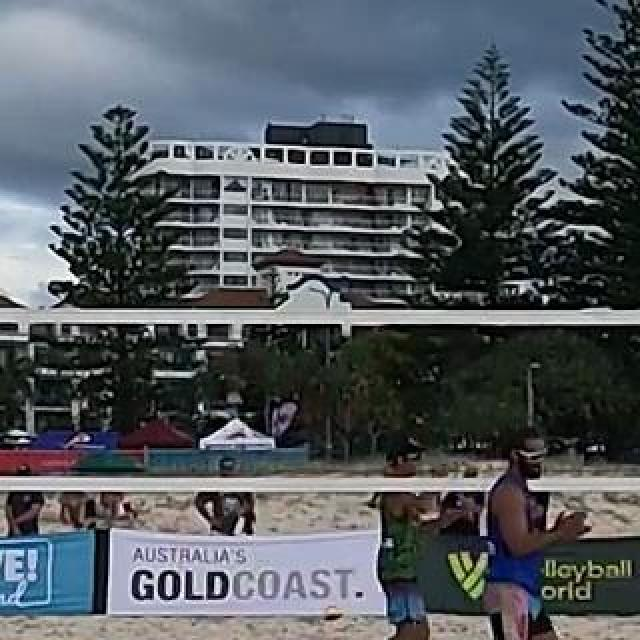volleyball: (323, 605, 345, 625)
